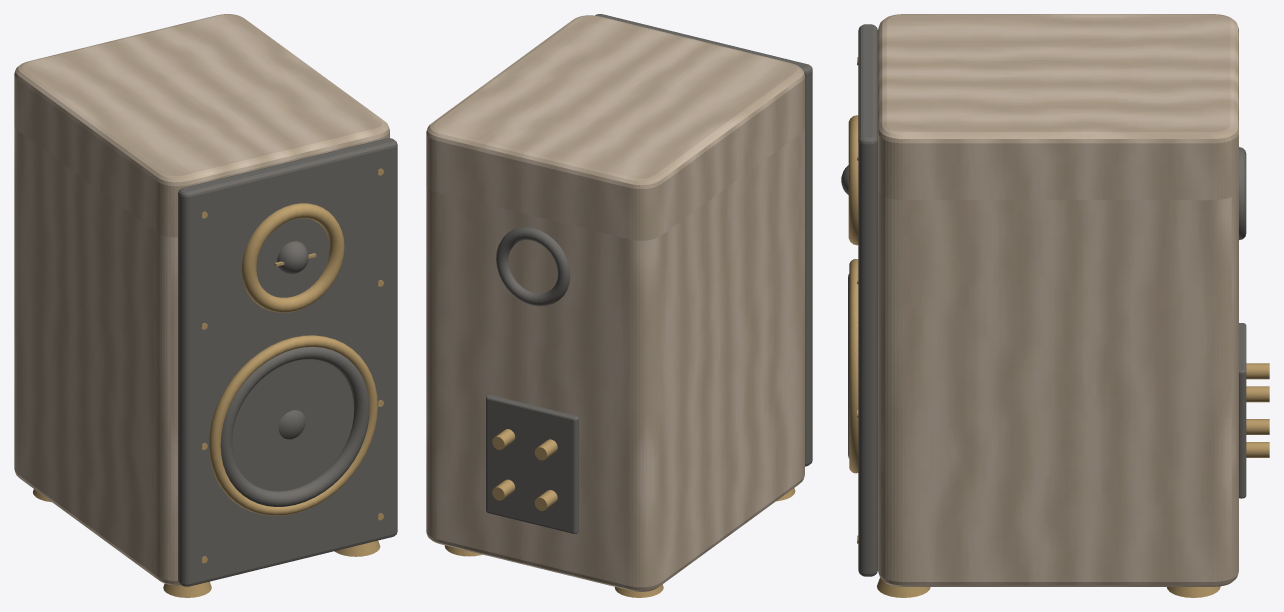
File: curated-speaker-ash.glb
3 renders of one model, left to right at view 1: azimuth 30°, elevation 25°; view 2: azimuth 150°, elevation 25°; view 3: azimuth 270°, elevation 25°, orthographic. The views are drawn at different scales.
Visible parts, largest first — view 1: SubPart.004, SubPart.005, SubPart.007, SubPart.006, SubPart.010, SubPart.011, SubPart.009, SubPart.002; view 2: SubPart.004, SubPart.014, SubPart.005, SubPart.013; view 3: SubPart.004, SubPart.005, SubPart.006, SubPart.014, SubPart.010, SubPart.013, SubPart.003.
Boxes of the visible parts, x1,y1,x2,y2 form: SubPart.004: (14, 14, 389, 585); SubPart.005: (178, 138, 397, 586); SubPart.007: (220, 347, 369, 506); SubPart.006: (209, 335, 377, 515); SubPart.010: (241, 203, 344, 312); SubPart.011: (277, 241, 308, 274); SubPart.009: (278, 410, 305, 439); SubPart.002: (163, 581, 211, 597); SubPart.004: (426, 15, 804, 591); SubPart.014: (486, 395, 578, 533); SubPart.005: (595, 14, 812, 466); SubPart.013: (496, 227, 570, 306); SubPart.004: (878, 14, 1238, 586); SubPart.005: (858, 24, 877, 576); SubPart.006: (849, 259, 858, 473); SubPart.014: (1239, 323, 1246, 498); SubPart.010: (848, 115, 858, 245); SubPart.013: (1239, 147, 1246, 239); SubPart.003: (877, 578, 930, 597).
Bounding box in the file's own units: 0.24 × 0.42 × 0.349.
5 materials, 2 textured.
